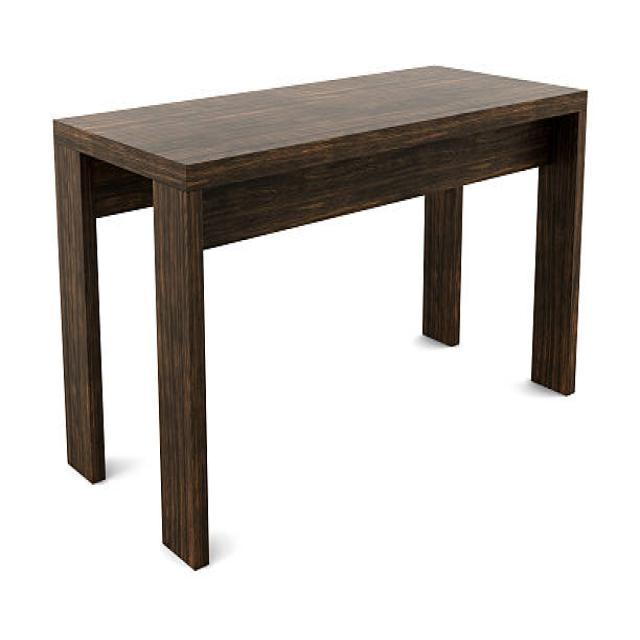table: (51, 63, 588, 571)
